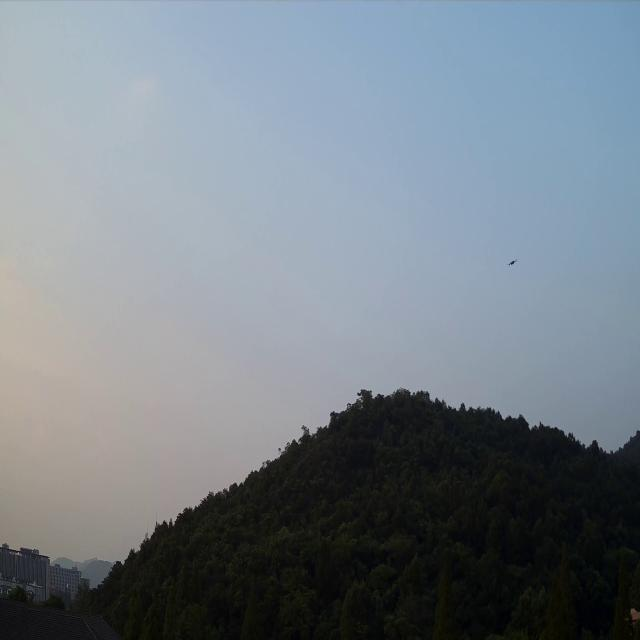UAV: (507, 258, 517, 266)
